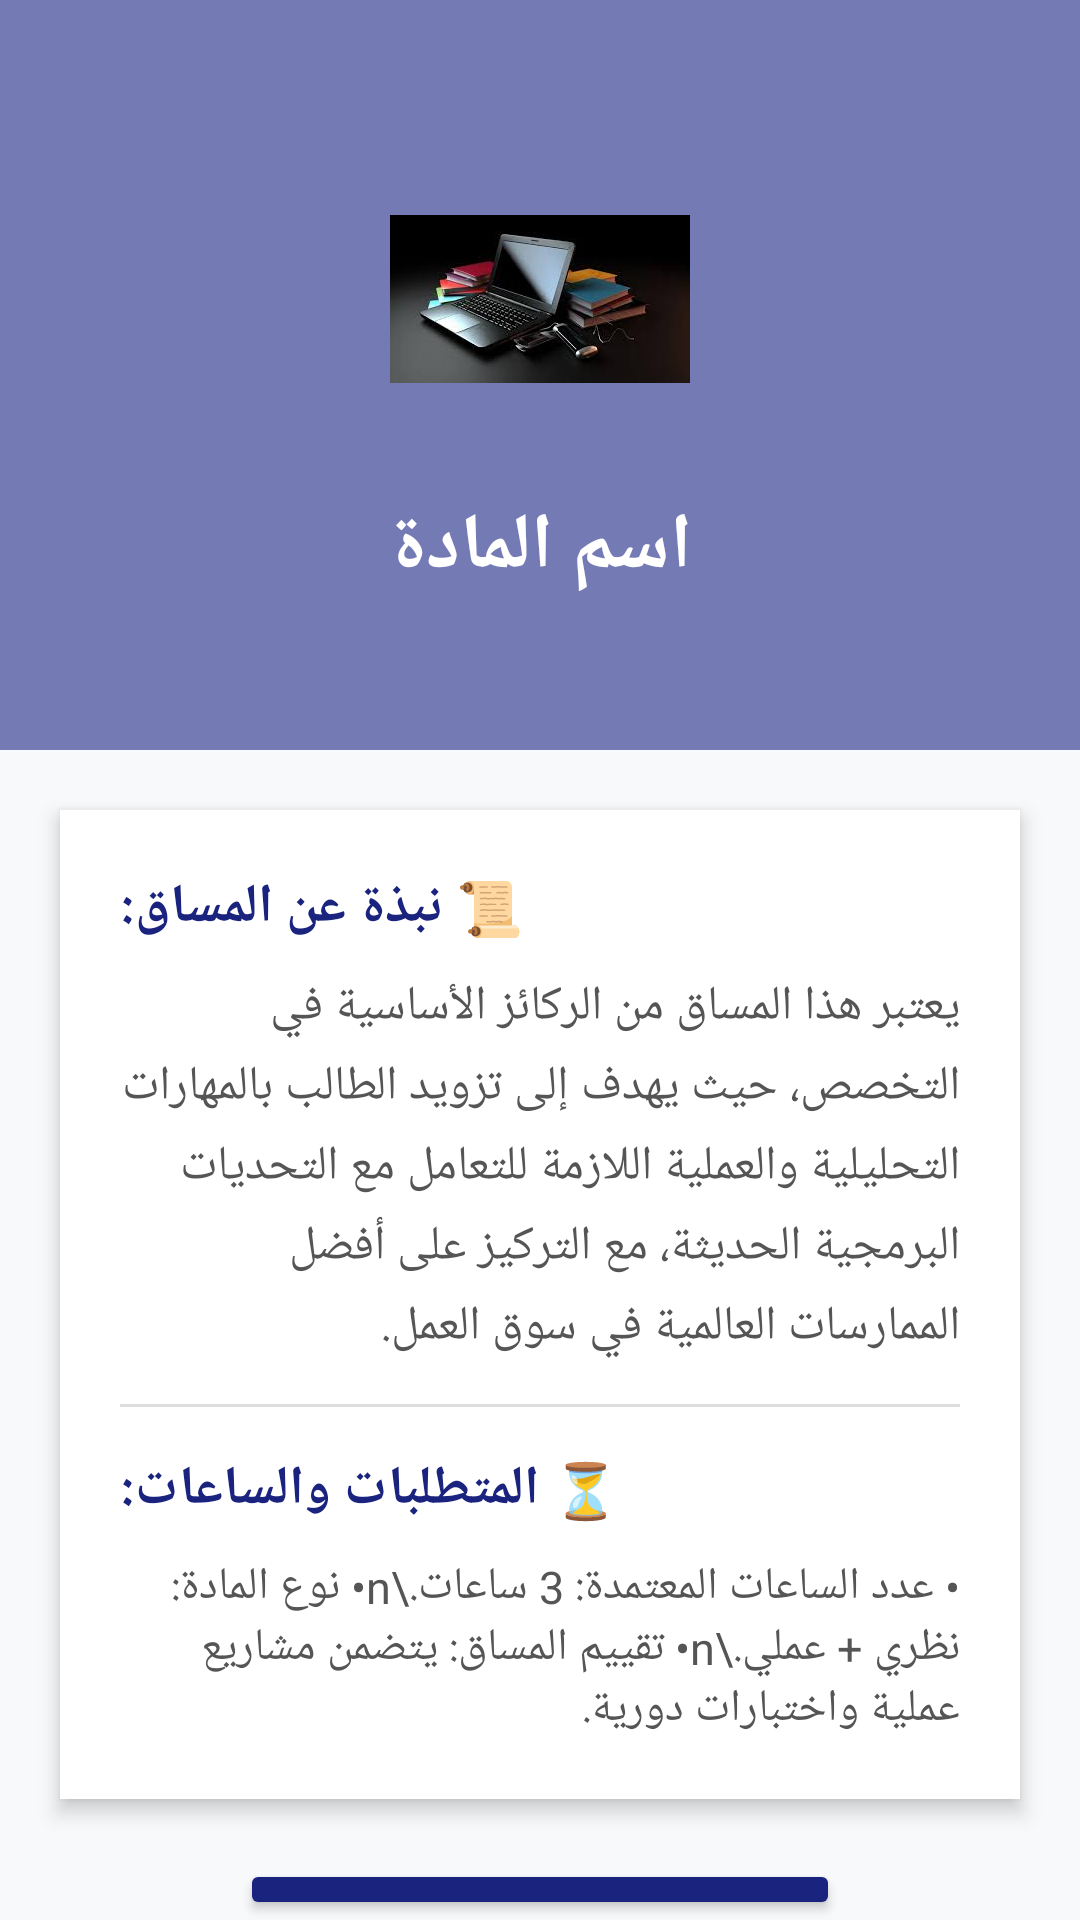

Icon bounding boxes for this 1080 x 1920 phone screenshot, format (x1, y1, x2, y2):
book: (390, 215, 690, 383)
